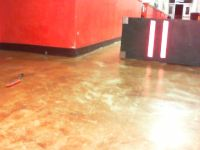switch: (147, 20, 156, 57), (160, 21, 169, 58)
